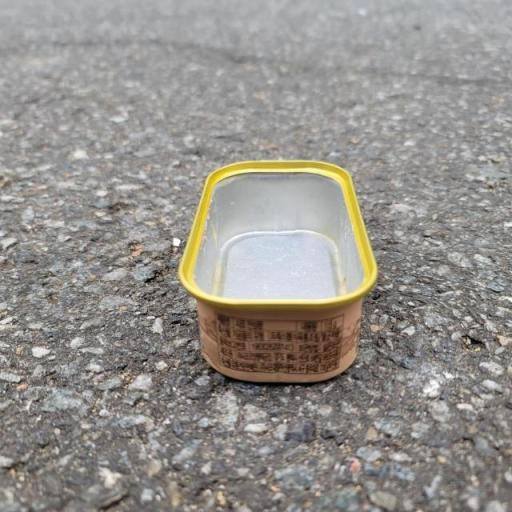metal: (142, 130, 412, 432)
